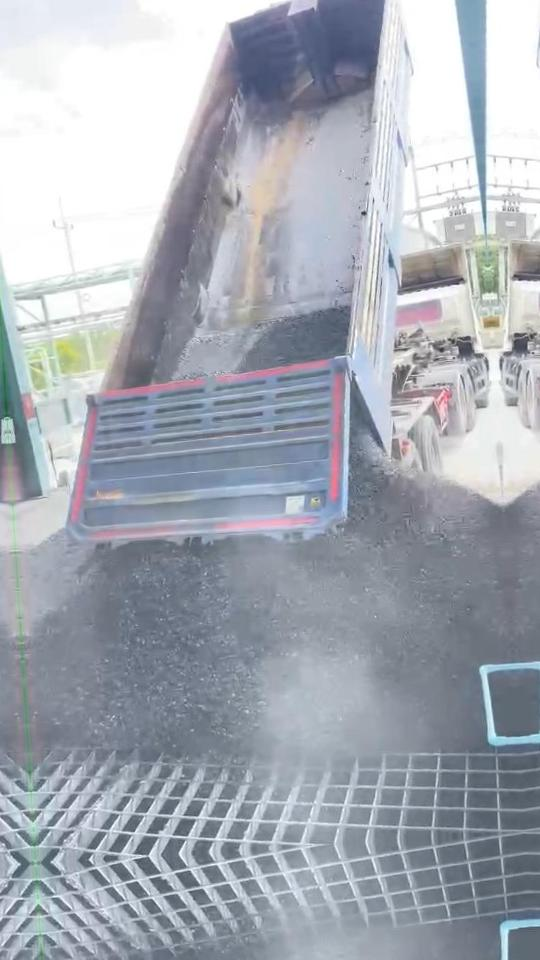gravel: (27, 436, 513, 758), (174, 306, 350, 378), (16, 530, 86, 636), (491, 671, 519, 736)
